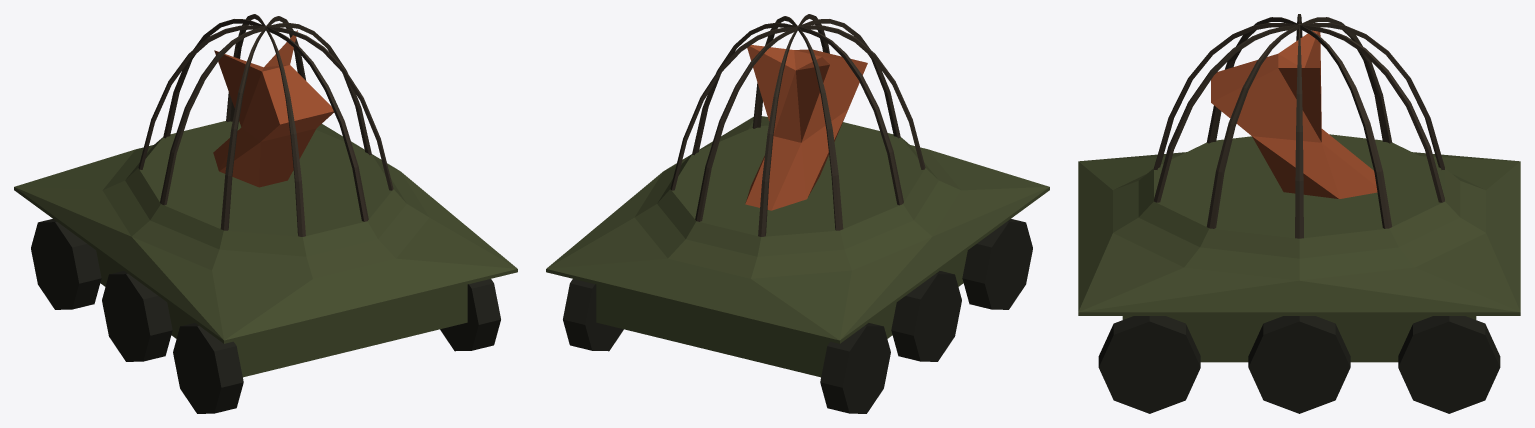
File: foxTank.fbx
The picture shows the model from 3 angles, left to right: view 1: azimuth 30°, elevation 25°; view 2: azimuth 150°, elevation 25°; view 3: azimuth 270°, elevation 25°; orthographic projection. The views are drawn at different scales.
Parts seen in each view (by area): view 1: Icosphere.001, Circle, Icosphere, Cube; view 2: Icosphere.001, Circle, Cube, Icosphere; view 3: Icosphere.001, Circle, Cube, Icosphere.
Boxes of the visible parts, <box> form: Icosphere.001: <box>14,121,517,377</box>; Circle: <box>31,219,500,413</box>; Icosphere: <box>138,14,393,236</box>; Cube: <box>213,30,334,187</box>; Icosphere.001: <box>546,116,1049,377</box>; Circle: <box>563,219,1032,413</box>; Cube: <box>745,45,867,210</box>; Icosphere: <box>670,14,925,236</box>; Icosphere.001: <box>1078,134,1520,362</box>; Circle: <box>1098,316,1500,413</box>; Cube: <box>1211,30,1377,199</box>; Icosphere: <box>1154,14,1444,238</box>.
Bounding box in the file's own units: 2.63 × 2.57 × 3.25.
Materials: 4 (4 with a texture image).
